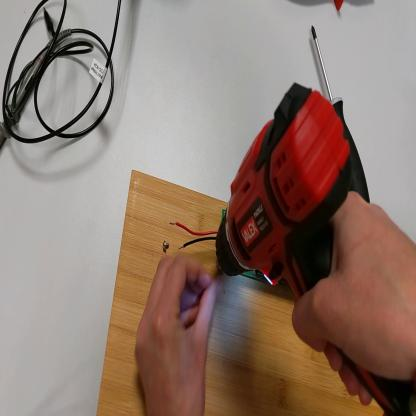electric screwdriver: (216, 83, 416, 415)
hand: (291, 193, 416, 405), (136, 257, 224, 416)
high voltage board: (171, 210, 266, 280)
oscilloscope probe tip: (3, 23, 70, 161)
screwdriver-: (307, 24, 370, 209)
working area: (97, 171, 385, 416)
